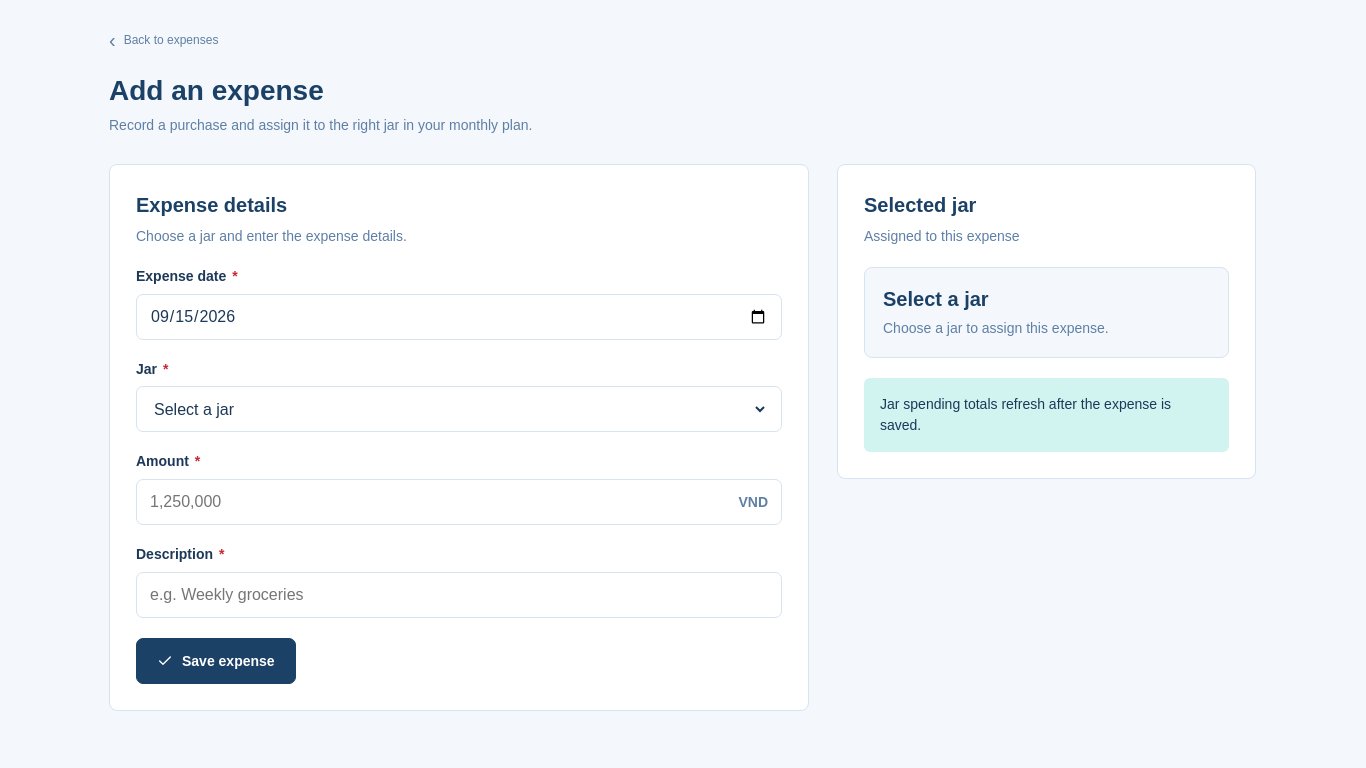
Test: AddExpensePageComponent › initial load (TC_F3_001, AC1) › shows the plan budget of the selected jar from the loaded plan
Select "Food · 20%" in the dropdown with id "expense-jar" at (459, 409), box x1=150 y1=388 x2=768 y2=430
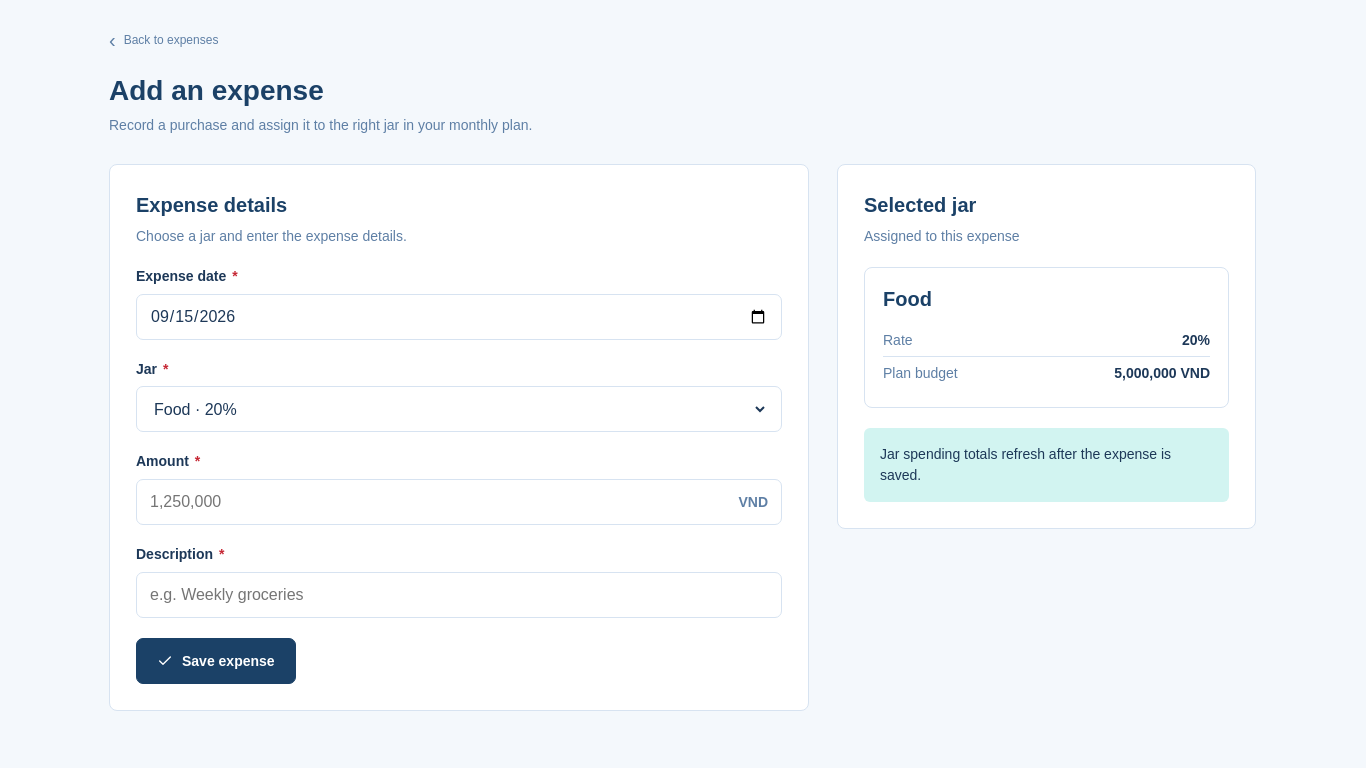
Expected: the heading with class "jar-name" reads "Food", x1=883 y1=288 x2=932 y2=310
Select "Children · 10%" in the dropdown with id "expense-jar" at (459, 409), box x1=150 y1=388 x2=768 y2=430
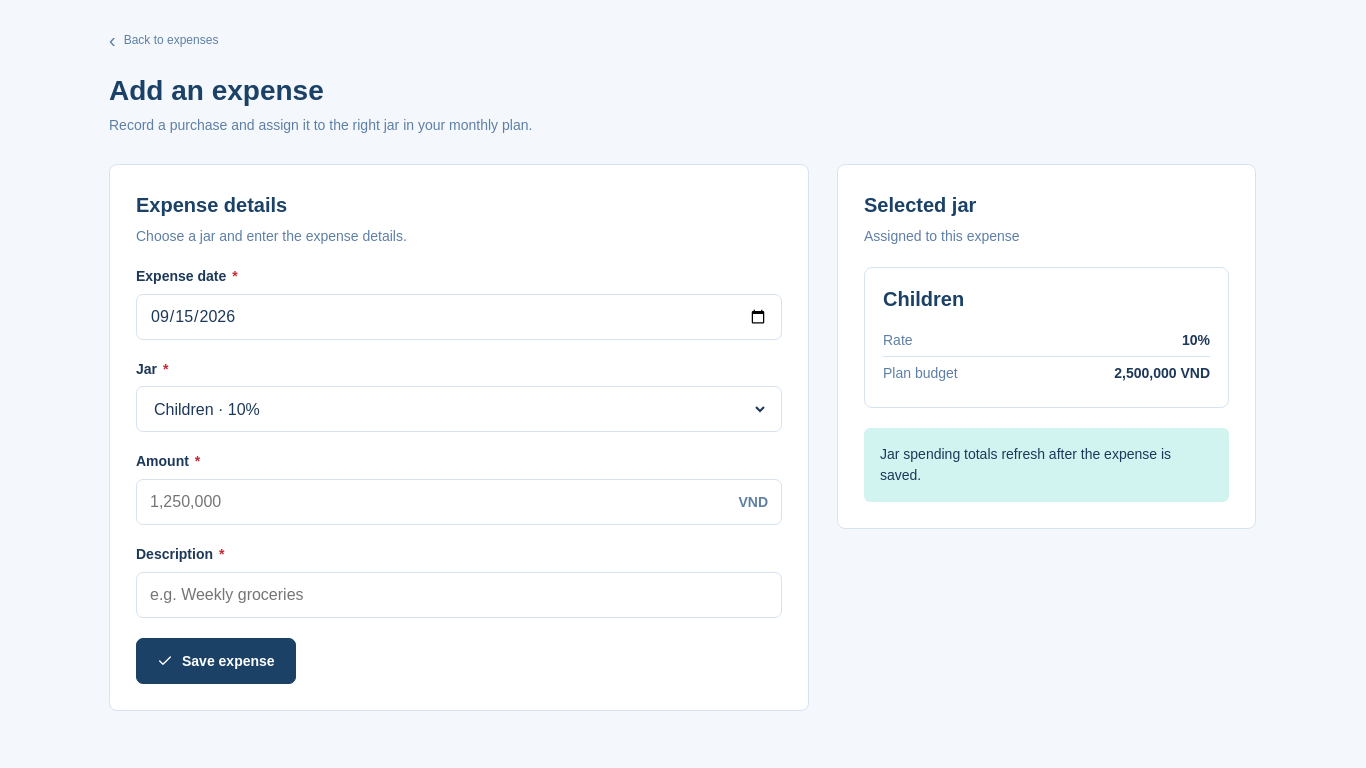
Expected: the heading with class "jar-name" reads "Children", x1=883 y1=288 x2=964 y2=310
